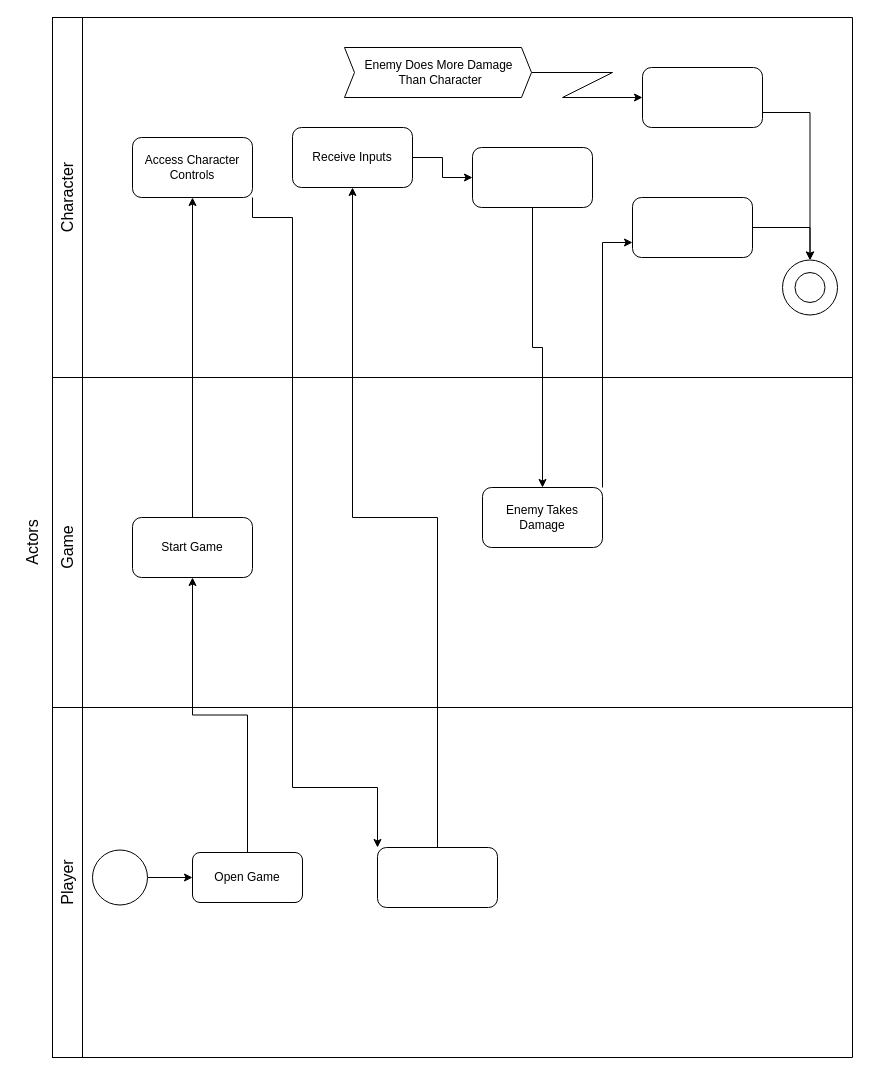
The diagram is 871 pixels wide and 1076 high, and some of its shapes have lost their labels. Each missing label, with the centre of its shape:
Character Wins: (692,227)
Control Character: (437,877)
Enemy Wins: (702,97)
Fight Enemy: (532,177)
